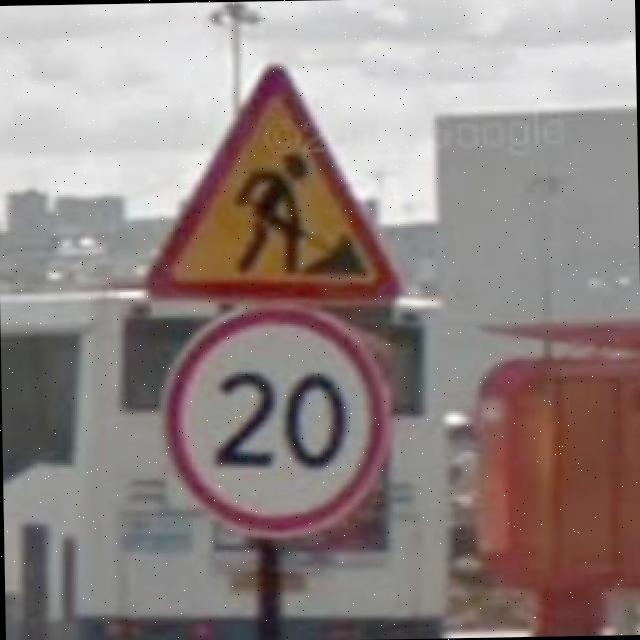Ograniczenie predkosci do 20: (159, 304, 393, 540)
